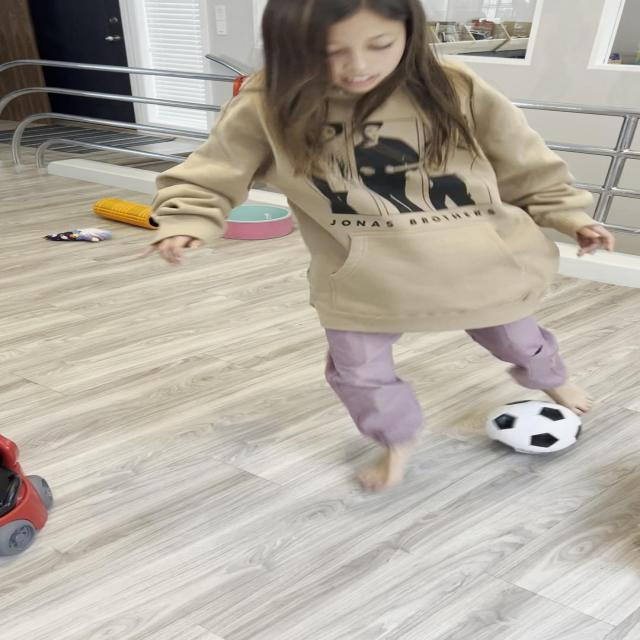Soccer Ball: (486, 399, 585, 454)
